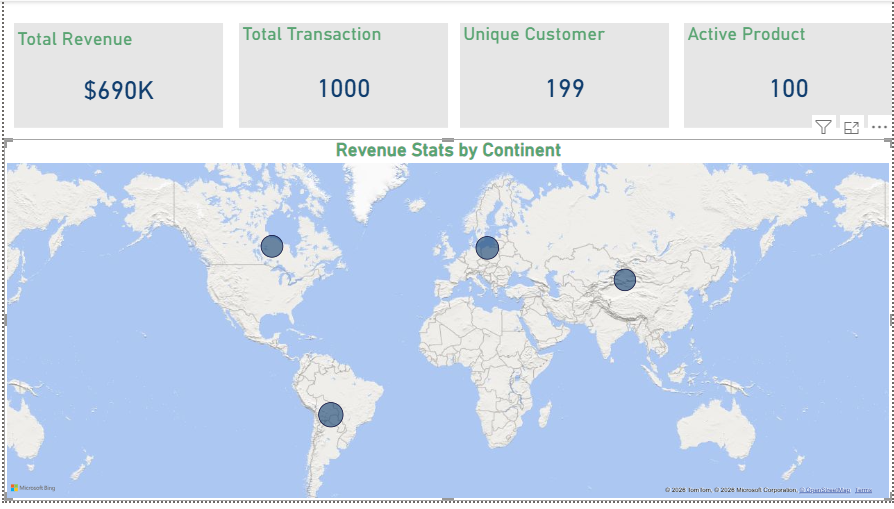

The page's visual inventory and layout, read from the dashboard file:
{"tool":"powerbi","page":{"name":"Stats By Continent","canvas":[1280,720],"ordinal":1},"visuals":[{"type":"map","title":"Revenue Stats by Continent","fields":{"Category":["Customer.Region"],"Size":["CountNonNull(Customer.CustomerName)"]},"box":[0,198.2,1280,521.6],"z":0},{"type":"card","title":"Total Revenue","fields":{"Values":["Sum(Transactions.TotalValue)"]},"box":[14.4,31.7,301,151.2],"z":1000},{"type":"card","title":"Total Transaction","fields":{"Values":["CountNonNull(Transactions.TransactionID)"]},"box":[338.4,31.7,301,151.2],"z":2000},{"type":"card","title":"Unique Customer","fields":{"Values":["Count(Transactions.CustomerID)"]},"box":[656.6,31.7,301,151.2],"z":3000},{"type":"card","title":"Active Product","fields":{"Values":["Count(Product.ProductID)"]},"box":[979.2,31.7,301,151.2],"z":4000}]}

Visuals, with their boxes in screenshot pixels (x1, y1, x2, y2), scaled from the page's 1280x720 canvas onto the 894x509 screenshot:
"Revenue Stats by Continent" map: (0, 140, 893, 508)
"Total Revenue" card: (10, 22, 220, 129)
"Total Transaction" card: (236, 22, 447, 129)
"Unique Customer" card: (459, 22, 669, 129)
"Active Product" card: (684, 22, 893, 129)
